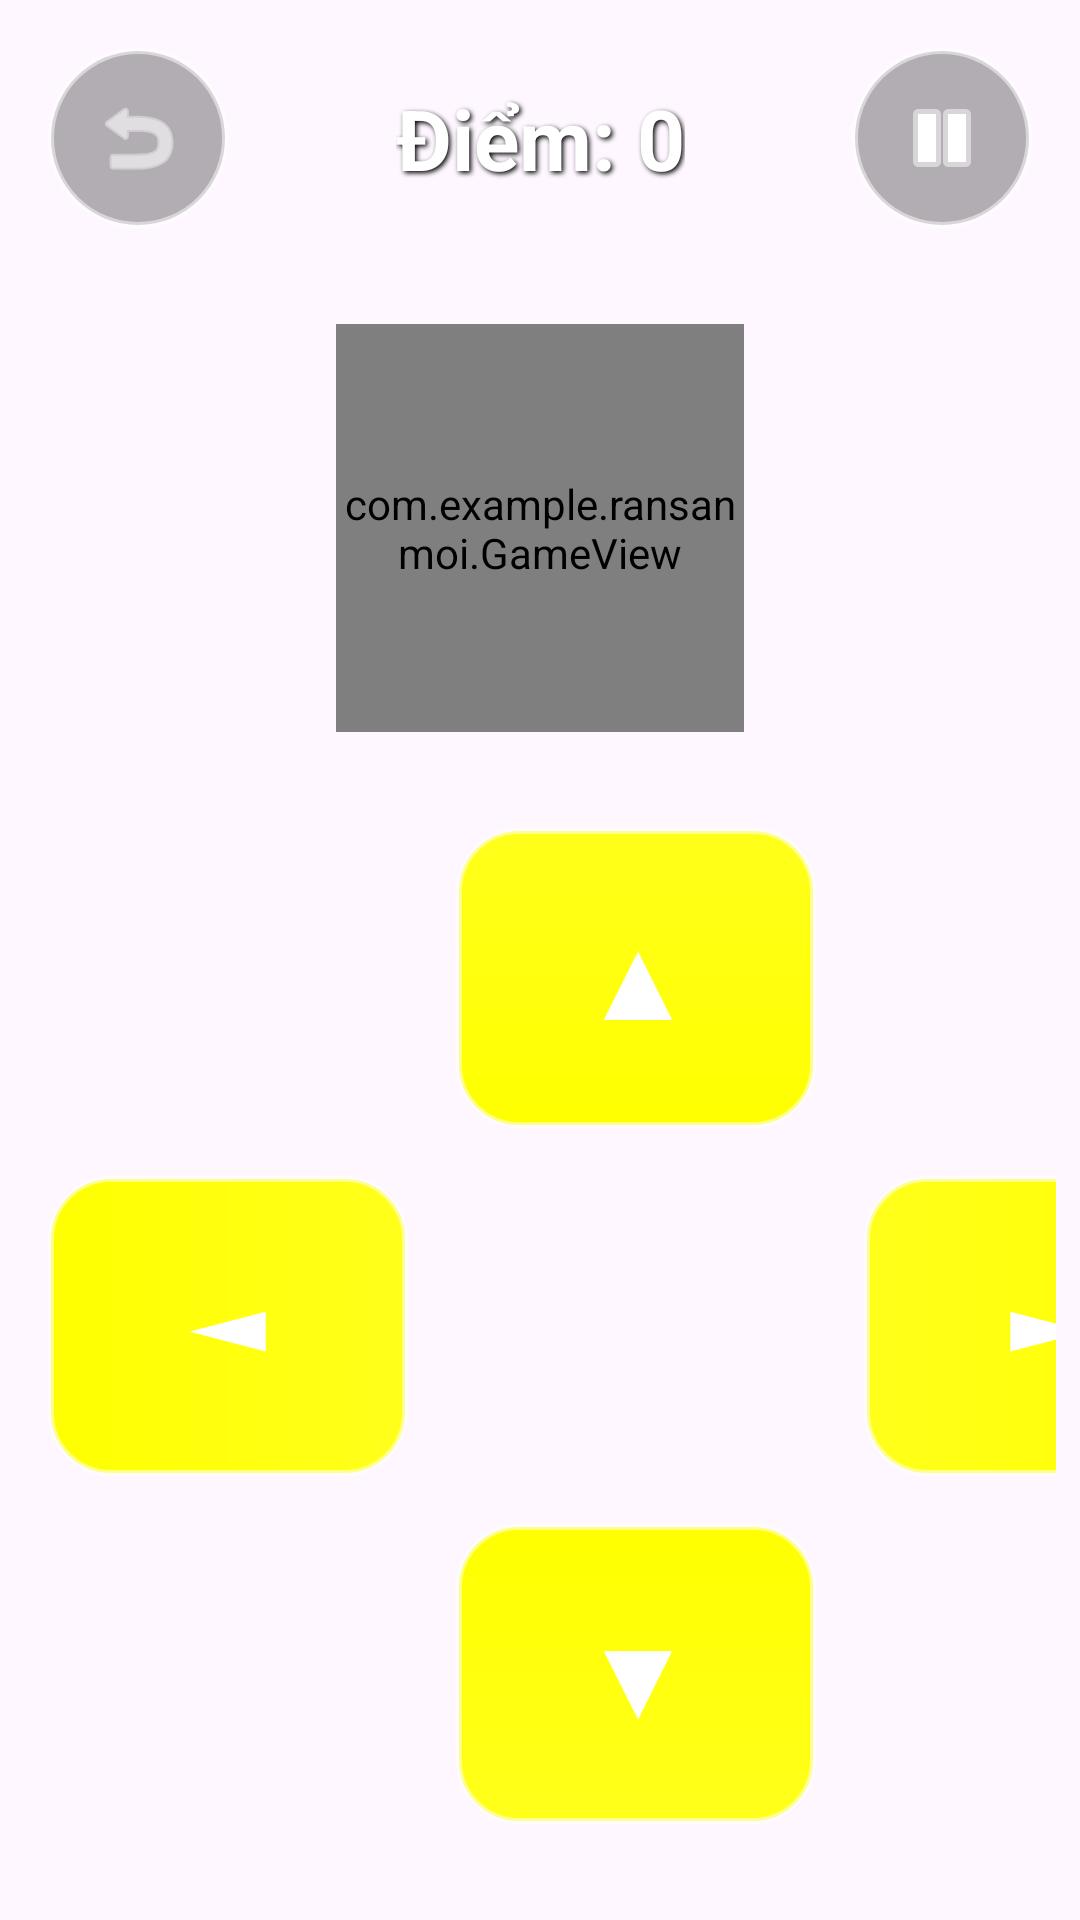

Locate icon controls on the screen. Image size 1080px×1920px, boxes as box(x1, y1, x2, y2).
pause: box(855, 51, 1029, 225)
revert: box(51, 51, 225, 225)
